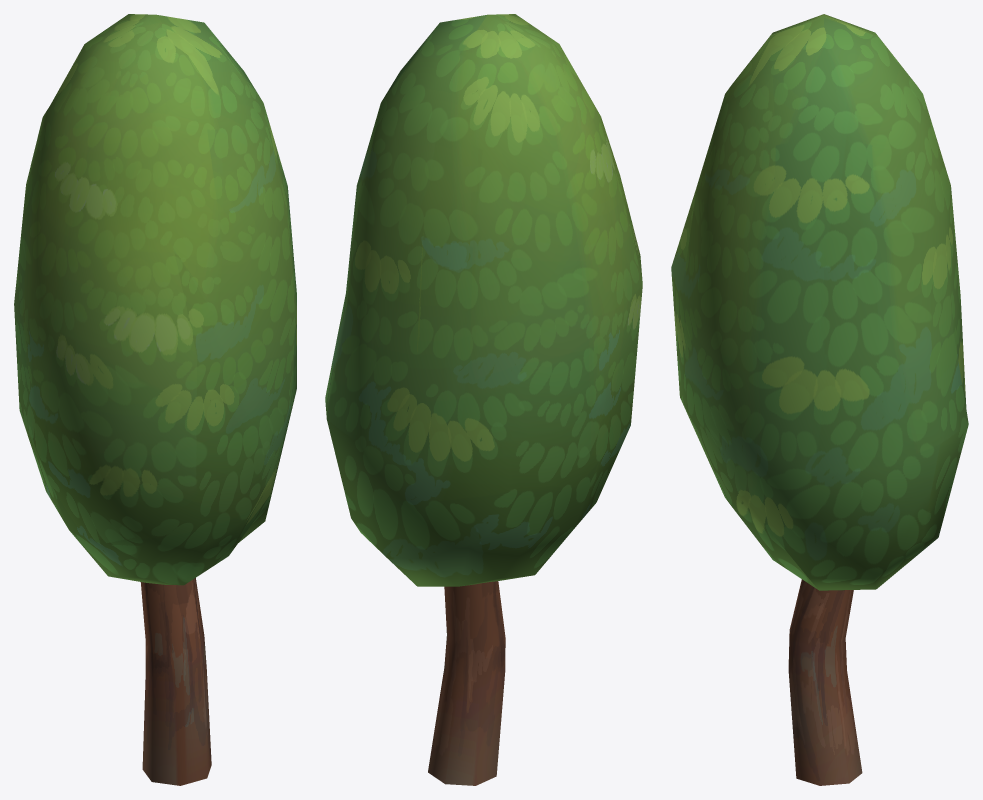
Rendered from TreeTall.fbx.
The picture shows the model from 3 angles, left to right: view 1: azimuth 30°, elevation 25°; view 2: azimuth 150°, elevation 25°; view 3: azimuth 270°, elevation 25°; orthographic projection. The views are drawn at different scales.
Parts seen in each view (by area): view 1: TreeTall; view 2: TreeTall; view 3: TreeTall.
Part boxes in pixels (x1,y1,x2,y2): TreeTall: [14, 14, 296, 785]; TreeTall: [325, 14, 642, 785]; TreeTall: [671, 14, 968, 785].
Bounding box in the file's own units: 168 × 470 × 170.
2 materials, 2 textured.
